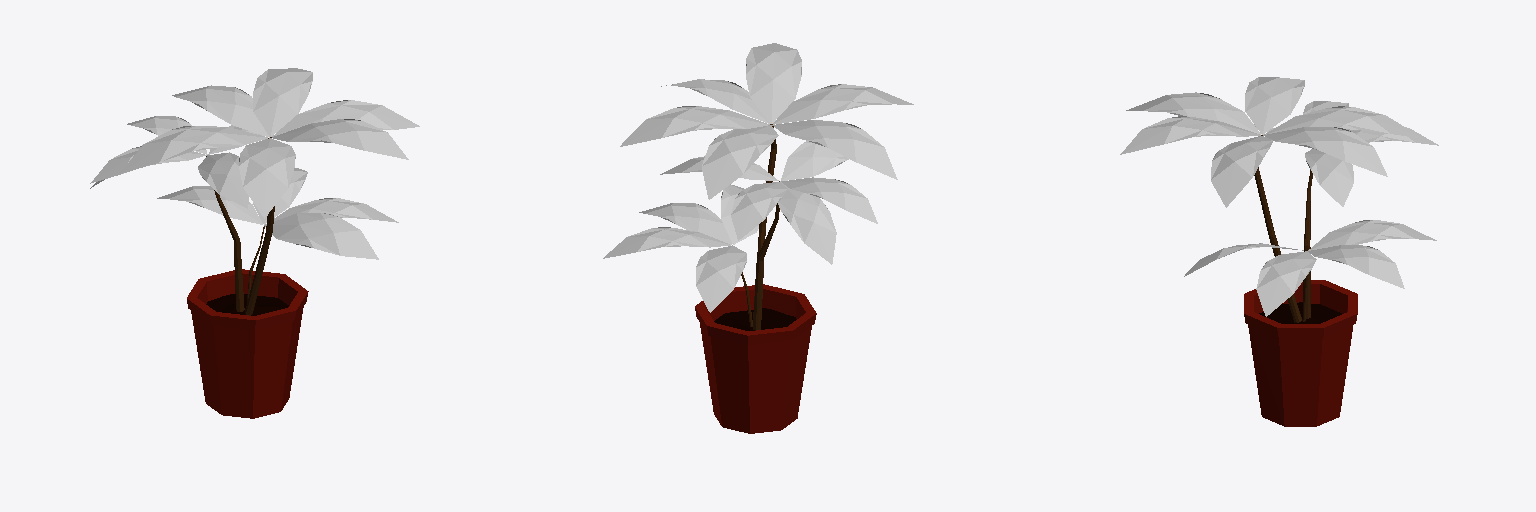
Rendered from plantaMaceta.obj.
3 views of the same model, side by side, from view 1: azimuth 30°, elevation 25°; view 2: azimuth 150°, elevation 25°; view 3: azimuth 270°, elevation 25° (orthographic).
Visible parts, largest first — view 1: leaf.004, pot, leaf.003, leaf.014, tige.001, tige.002; view 2: leaf.004, pot, leaf.014, leaf.003, tige.001; view 3: leaf.004, pot, leaf.003, leaf.014, tige.002, tige.001.
Part boxes in pixels (x1,y1,x2,y2): leaf.004: (119, 68, 419, 218); pot: (187, 269, 308, 418); leaf.003: (157, 168, 398, 259); leaf.014: (90, 116, 262, 208); tige.001: (206, 156, 244, 311); tige.002: (245, 137, 274, 315); leaf.004: (620, 43, 913, 199); pot: (695, 284, 816, 433); leaf.014: (660, 141, 877, 264); leaf.003: (603, 184, 758, 312); tige.001: (753, 181, 779, 330); leaf.004: (1120, 77, 1422, 207); pot: (1244, 280, 1357, 426); leaf.003: (1184, 220, 1436, 316); leaf.014: (1254, 101, 1438, 206); tige.002: (1254, 135, 1301, 322); tige.001: (1303, 170, 1312, 318).
Bounding box in the file's own units: 5.14 × 5.45 × 5.16.